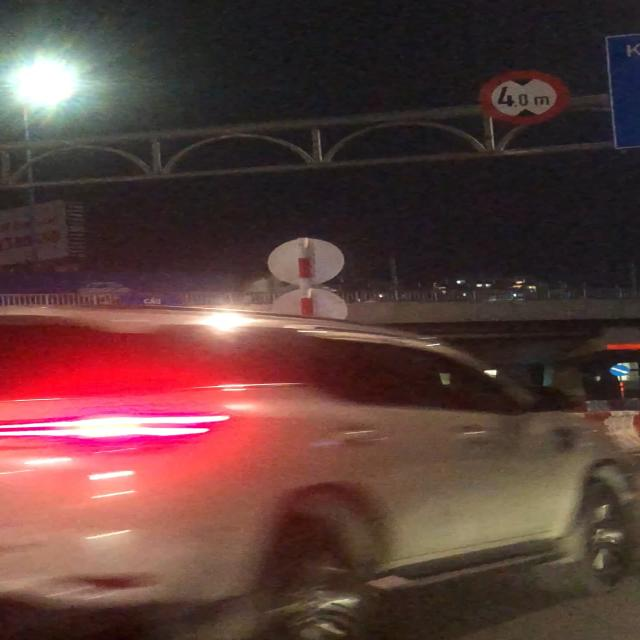Bien bao han che chieu cao: (474, 68, 572, 126)
Bien bao huong phai di vong chuong ngai vat: (608, 362, 633, 378)
